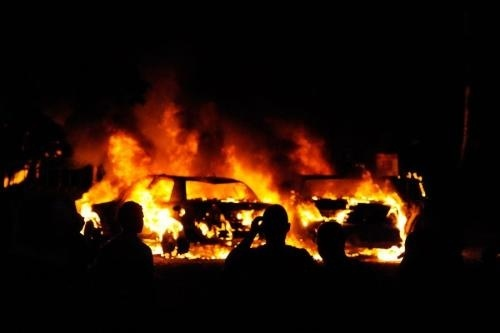fire: (68, 102, 417, 270), (1, 161, 32, 186)
